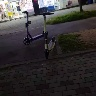beam: (18, 10, 50, 47)
gcooter: (35, 11, 58, 62)
